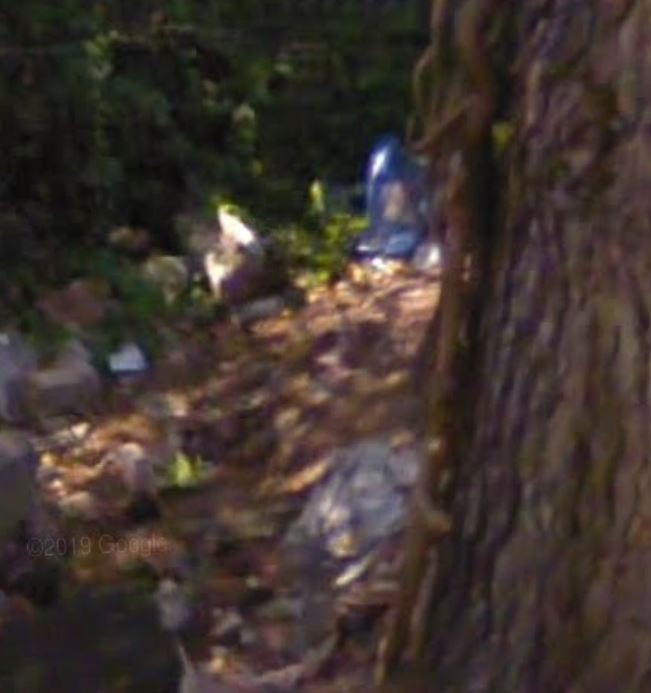trash: (347, 125, 439, 271), (103, 329, 150, 378)
